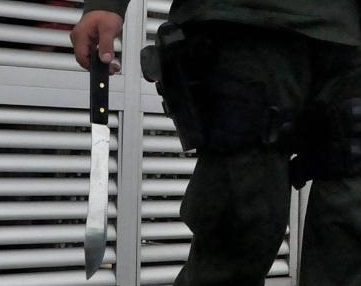knife: (67, 25, 120, 285)
